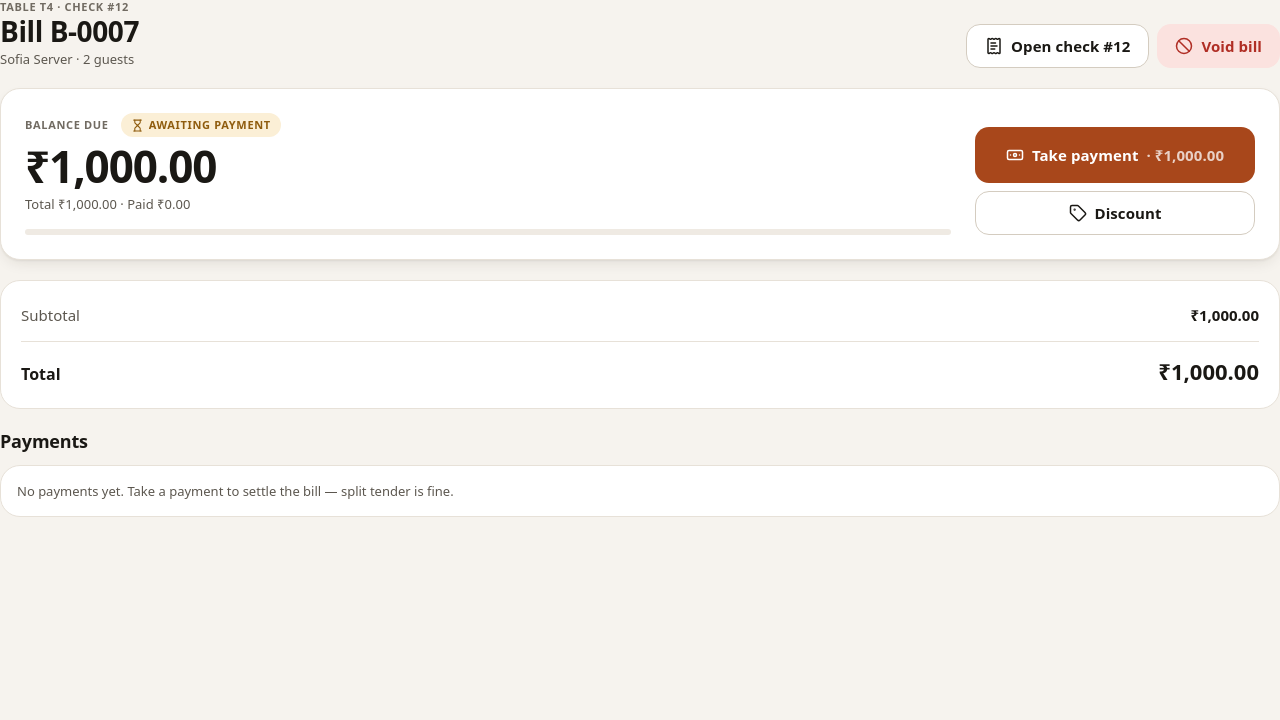
it: BillDetail money intents › never closes the drawer while our charge is on the wire, and shows our own answer when it lands
Click the button "Take payment · ₹1,000.00".
click(1115, 155)  # box [975,127,1255,183]
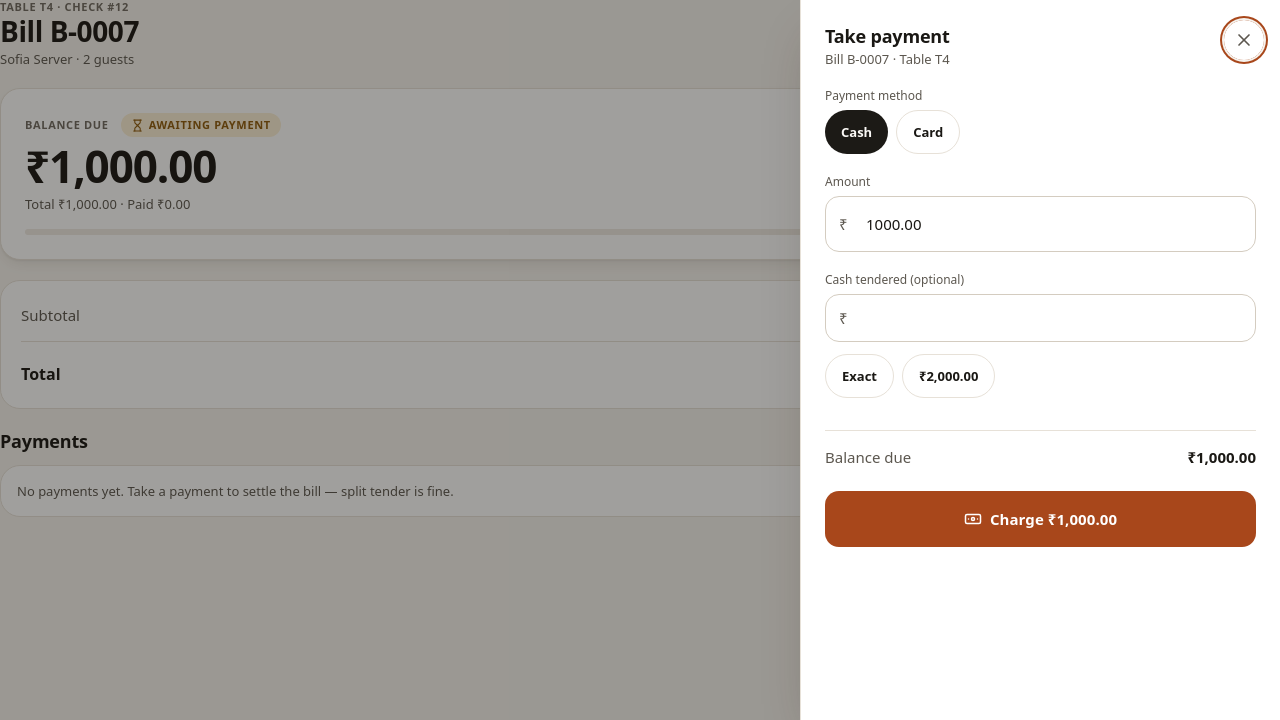
Replace the text in the field labelled "Amount" with "1000" at (1040, 224), box [825,196,1256,252]
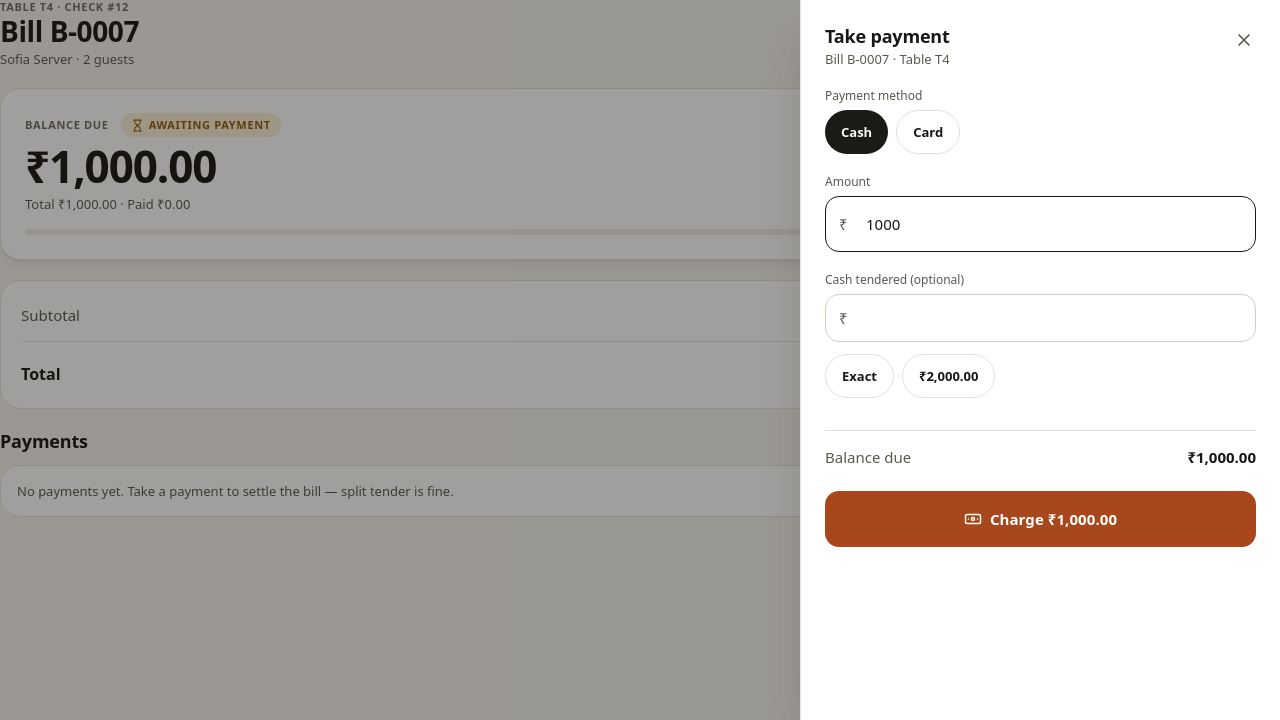
Click the button "Charge ₹1,000.00".
click(1040, 519)  # box [825,491,1256,547]
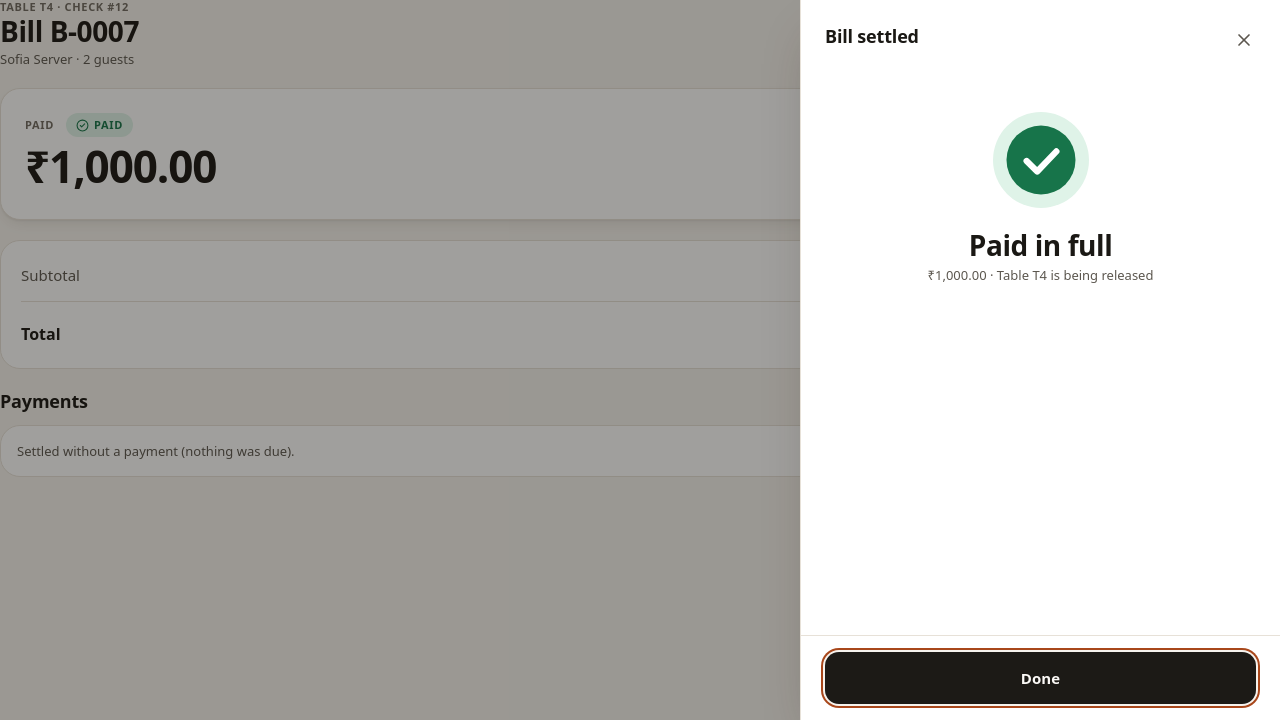
Result: the dialog named "Take payment" is shown at [800,0,1279,719]
Result: the heading "Paid in full" is shown at [969,228,1112,262]
